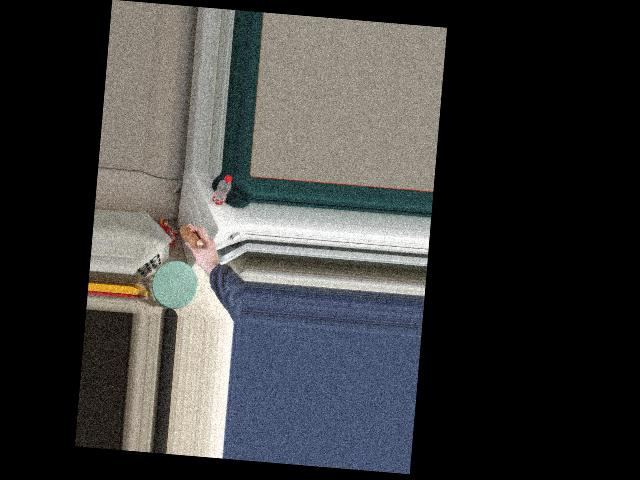sweet_potato: (179, 222, 208, 252)
